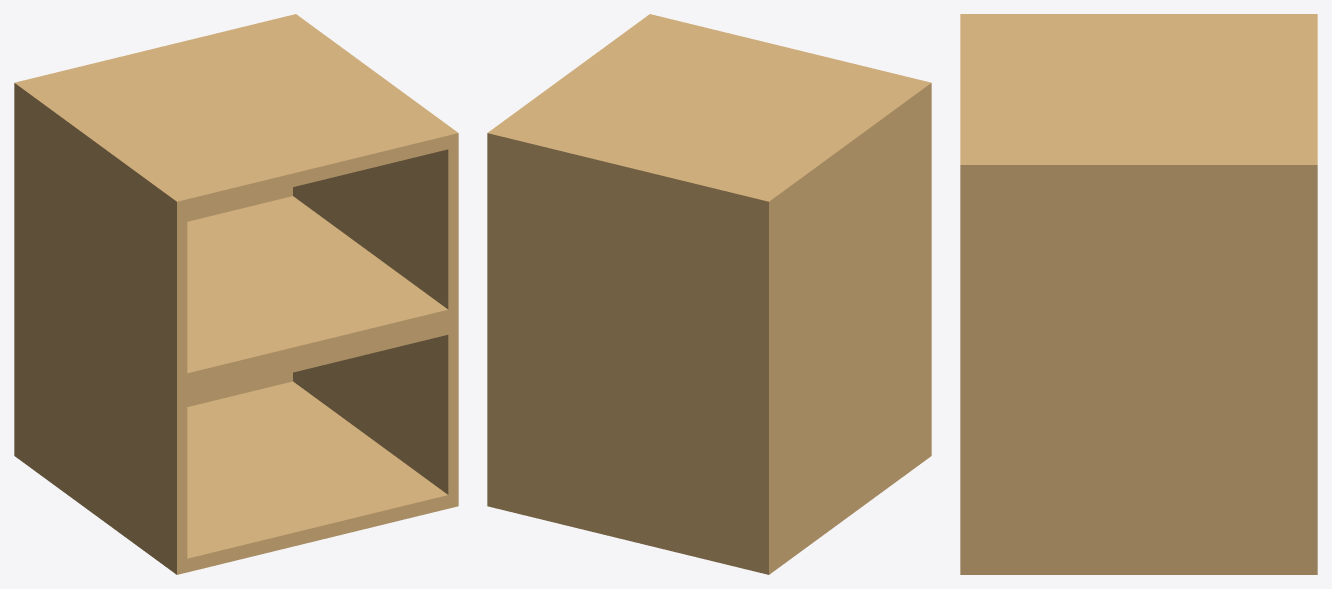
Rendered from Cabinet1.fbx.
3 views of the same model, side by side, from view 1: azimuth 30°, elevation 25°; view 2: azimuth 150°, elevation 25°; view 3: azimuth 270°, elevation 25° (orthographic). The views are drawn at different scales.
Parts seen in each view (by area): view 1: Cube; view 2: Cube; view 3: Cube.
Part boxes in pixels (x1,y1,x2,y2): Cube: (14, 14, 458, 574); Cube: (487, 14, 931, 574); Cube: (960, 14, 1317, 574).
Bounding box in the file's own units: 86.96 × 110 × 86.96.
